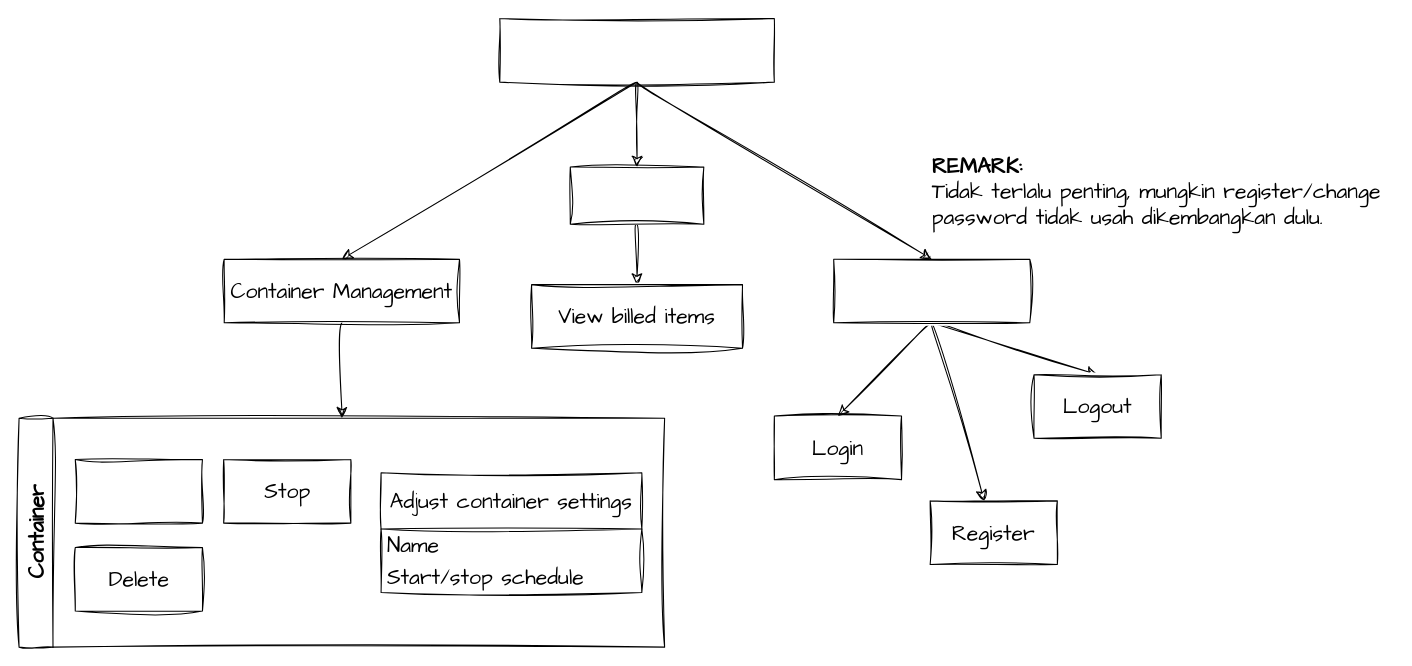
This 1412x666 diagram has some shape labels left out. The shapes that lost their labels are listed below. From the top down, each one's centre as x and y in pixels, then its label:
At point (636, 49): "Web Service".
At point (636, 195): "Billing".
At point (931, 290): "Access control".
At point (138, 490): "Start".
